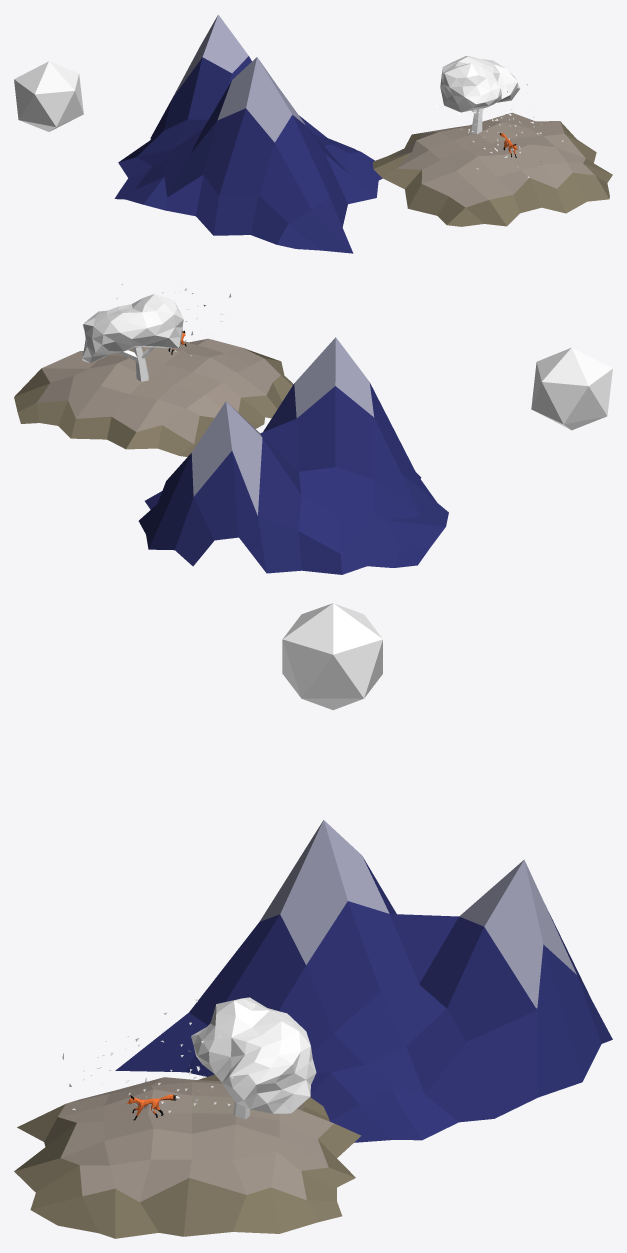
The model's file is Lowpoly_fox.glb.
The picture shows the model from 3 angles, top to bottom: view 1: azimuth 30°, elevation 25°; view 2: azimuth 150°, elevation 25°; view 3: azimuth 270°, elevation 25°; orthographic projection. The views are drawn at different scales.
Visible parts, largest first — view 1: Plane.001_0, Plane_0, Icosphere.001_0, Icosphere_0; view 2: Plane.001_0, Plane_0, Icosphere.001_0, Icosphere_0, Cylinder.001_0; view 3: Plane.001_0, Plane_0, Icosphere_0, Icosphere.001_0.
Boxes of the visible parts, <box> form: Plane.001_0: <box>114,14,382,253</box>; Plane_0: <box>372,112,612,226</box>; Icosphere.001_0: <box>14,61,83,131</box>; Icosphere_0: <box>416,56,563,177</box>; Plane.001_0: <box>138,337,448,574</box>; Plane_0: <box>14,338,293,456</box>; Icosphere.001_0: <box>531,347,612,430</box>; Icosphere_0: <box>82,282,252,362</box>; Cylinder.001_0: <box>118,347,154,381</box>; Plane.001_0: <box>115,820,612,1142</box>; Plane_0: <box>14,1074,361,1238</box>; Icosphere_0: <box>62,997,316,1130</box>; Icosphere.001_0: <box>282,603,382,710</box>.
Bounding box in the file's own units: 92.77 × 32.92 × 60.26.
Materials: 4 (3 with a texture image).
